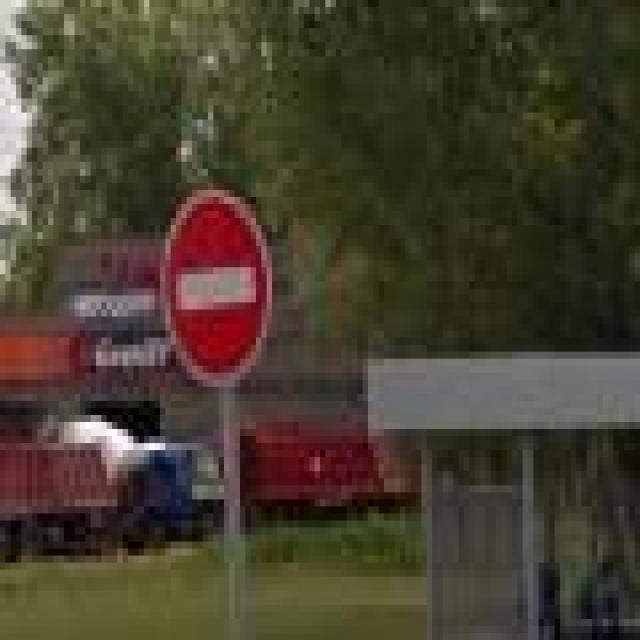do_not_enter: (160, 190, 272, 387)
